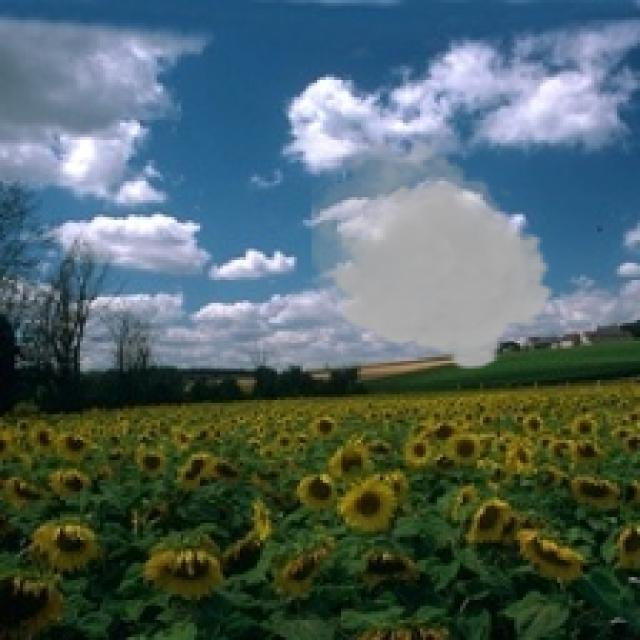Smoke: (312, 134, 557, 372)
